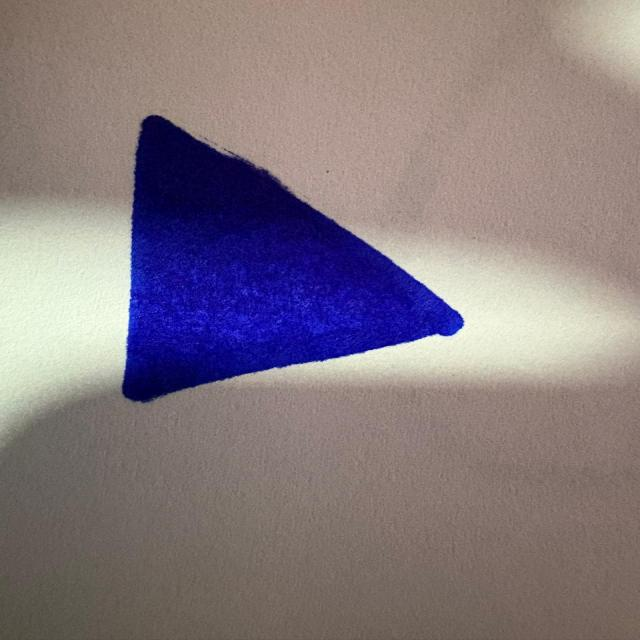Triangle: (122, 116, 463, 401)
